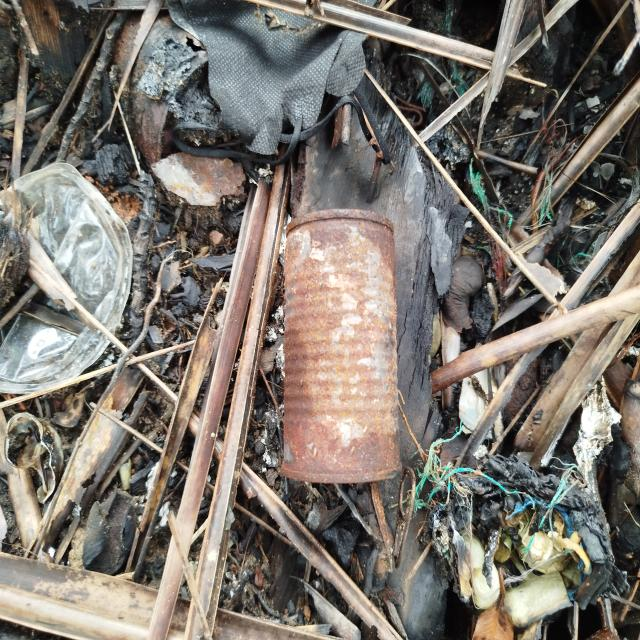metal: (270, 203, 408, 498)
residual: (0, 160, 141, 403)
